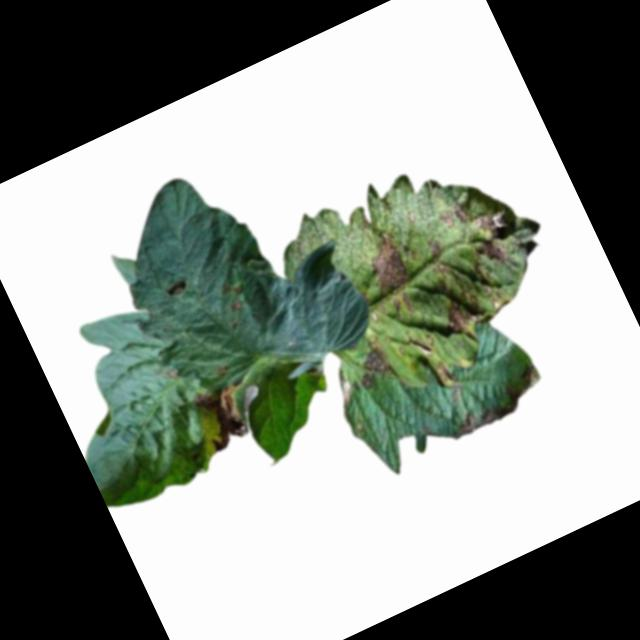Early_blight: (439, 362, 550, 442), (354, 229, 426, 327), (435, 271, 512, 338), (186, 379, 254, 454), (436, 184, 509, 251), (344, 329, 398, 388), (465, 230, 520, 284), (214, 275, 251, 316), (422, 234, 446, 262), (163, 278, 188, 299)
